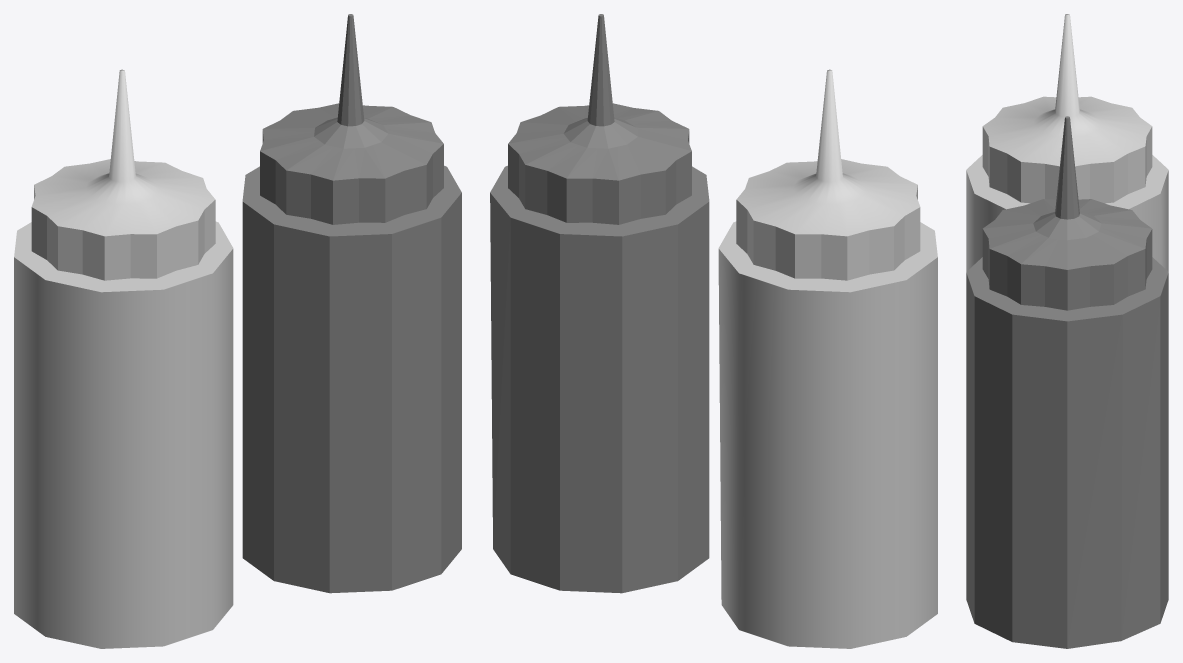
Rendered from Mustard + Ketchup.FBX.
The picture shows the model from 3 angles, left to right: view 1: azimuth 30°, elevation 25°; view 2: azimuth 150°, elevation 25°; view 3: azimuth 270°, elevation 25°; orthographic projection. The views are drawn at different scales.
Visible parts, largest first — view 1: Mustard, Mustard2; view 2: Mustard2, Mustard; view 3: Mustard2, Mustard.
Part boxes in pixels (x1,y1,x2,y2): Mustard: (14,69,233,648); Mustard2: (242,14,461,593); Mustard2: (490,14,709,593); Mustard: (718,69,937,648); Mustard2: (966,116,1168,648); Mustard: (966,14,1168,271).
Bounding box in the file's own units: 61.22 × 74.55 × 28.
